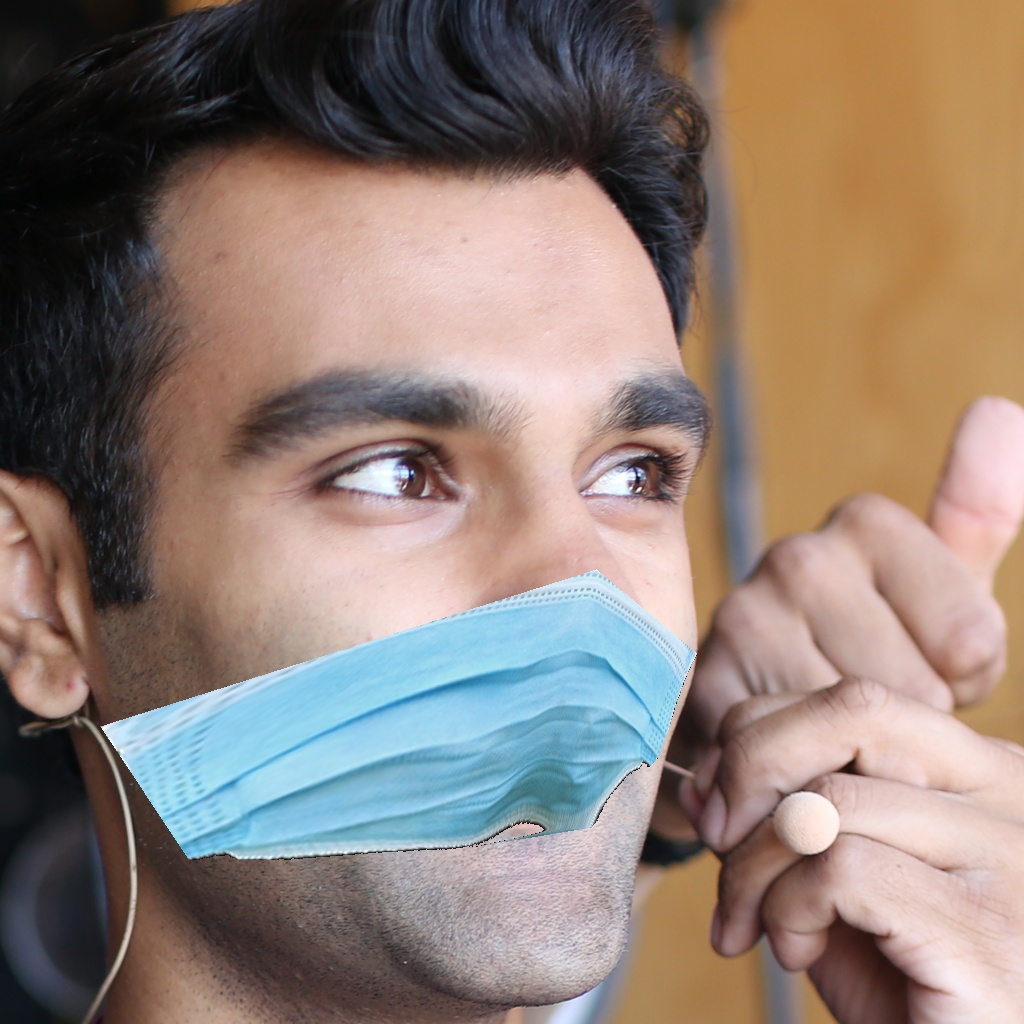mask_weared_incorrect: (182, 361, 704, 1003)
